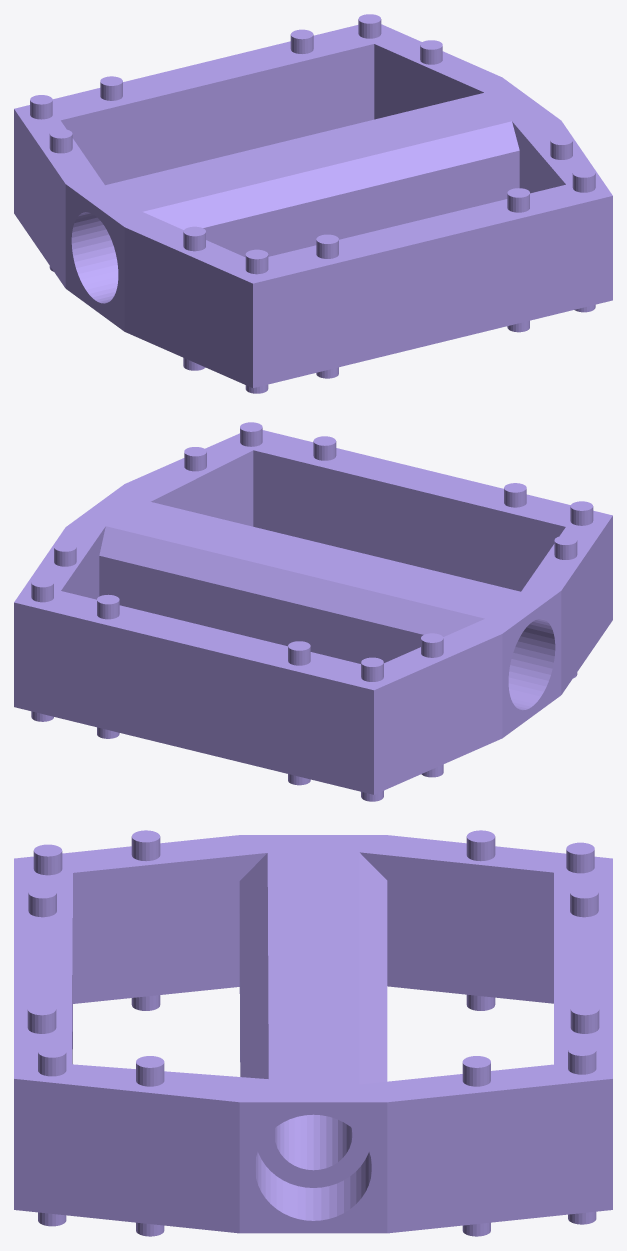
File: RepuestoBicicleta.glb
The picture shows the model from 3 angles, top to bottom: view 1: azimuth 30°, elevation 25°; view 2: azimuth 150°, elevation 25°; view 3: azimuth 270°, elevation 25°; orthographic projection. The views are drawn at different scales.
Size of the model in its own units: 103 by 30.38 by 97.79.
